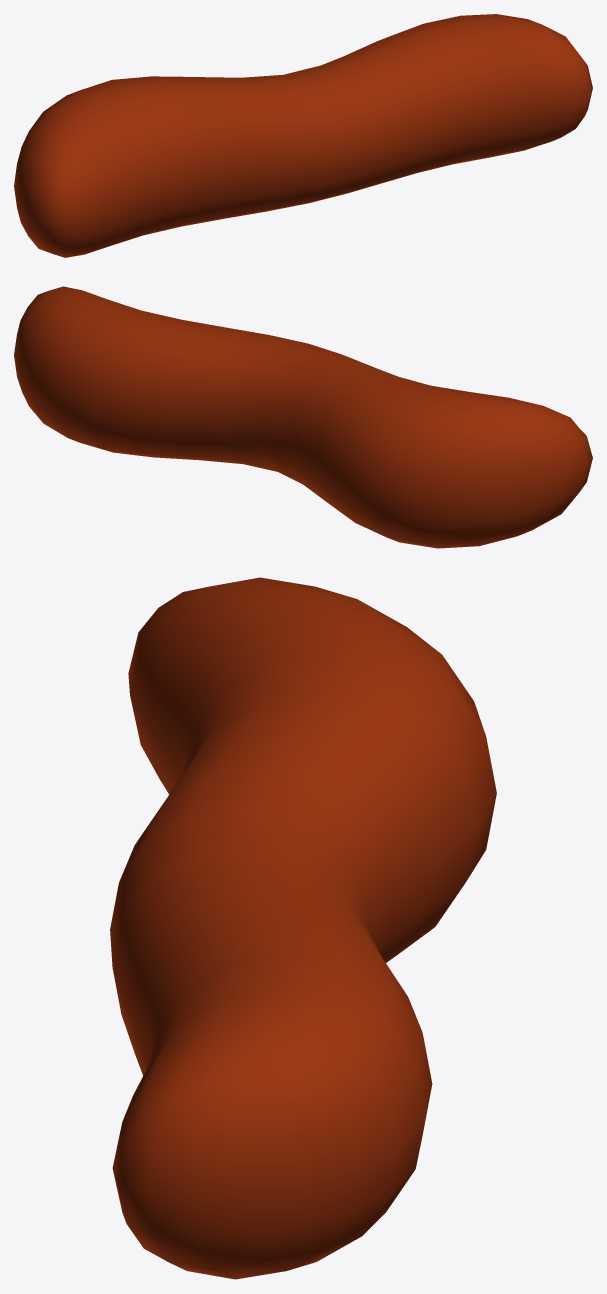
Rendered from rock_4.fbx.
3 renders of one model, top to bottom at view 1: azimuth 30°, elevation 25°; view 2: azimuth 150°, elevation 25°; view 3: azimuth 270°, elevation 25°, orthographic. The views are drawn at different scales.
Parts seen in each view (by area): view 1: rock_4; view 2: rock_4; view 3: rock_4.
Part boxes in pixels (box(x1,y1,x2,y2)): rock_4: box(14, 14, 592, 257); rock_4: box(14, 286, 592, 548); rock_4: box(110, 577, 496, 1279).
Bounding box in the file's own units: 23.09 × 5.67 × 6.97.
